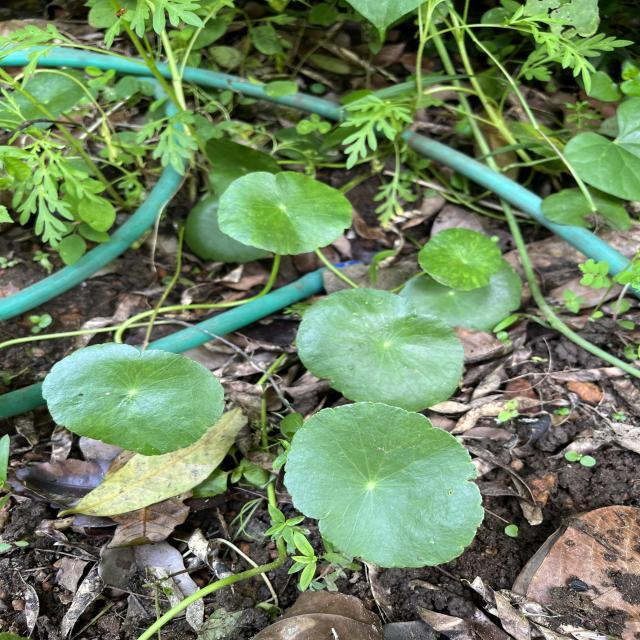Bacopa monnieri: (280, 400, 488, 572), (38, 339, 227, 459), (293, 284, 467, 412), (215, 167, 356, 257), (414, 225, 504, 293)
